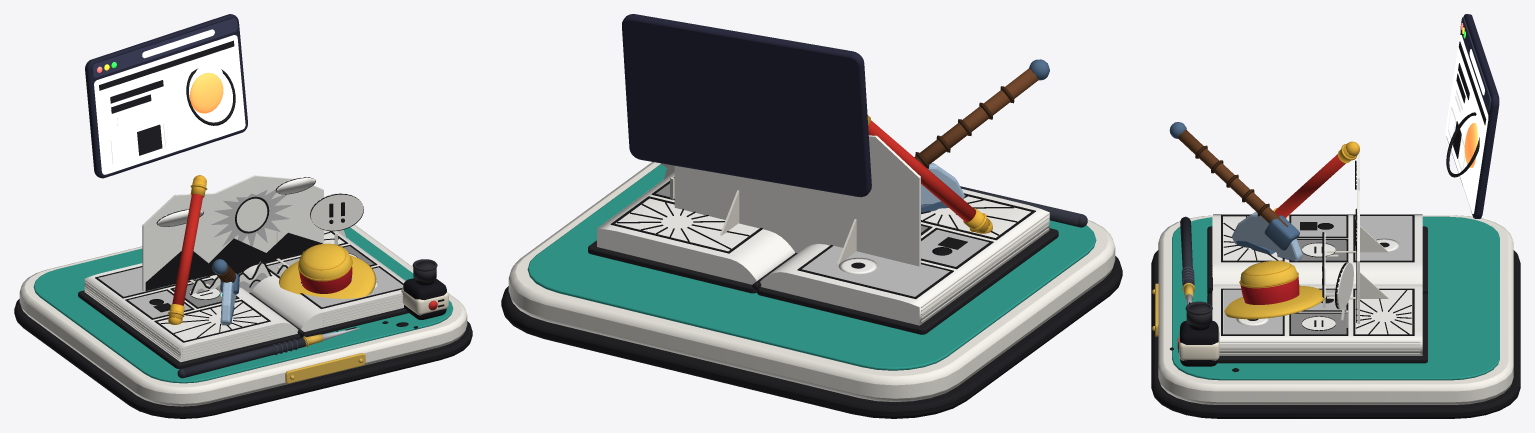
Rendered from manga_portfolio.glb.
3 views of the same model, side by side, from view 1: azimuth 30°, elevation 25°; view 2: azimuth 150°, elevation 25°; view 3: azimuth 270°, elevation 25° (orthographic). The views are drawn at different scales.
Parts seen in each view (by area): view 1: manga_portfolio; view 2: manga_portfolio; view 3: manga_portfolio.
Part boxes in pixels (left/top/right/bottom): manga_portfolio: left=14, top=14, right=472, bottom=418; manga_portfolio: left=501, top=14, right=1122, bottom=418; manga_portfolio: left=1151, top=14, right=1520, bottom=418.
Bounding box in the file's own units: 1 × 0.698 × 0.871.
